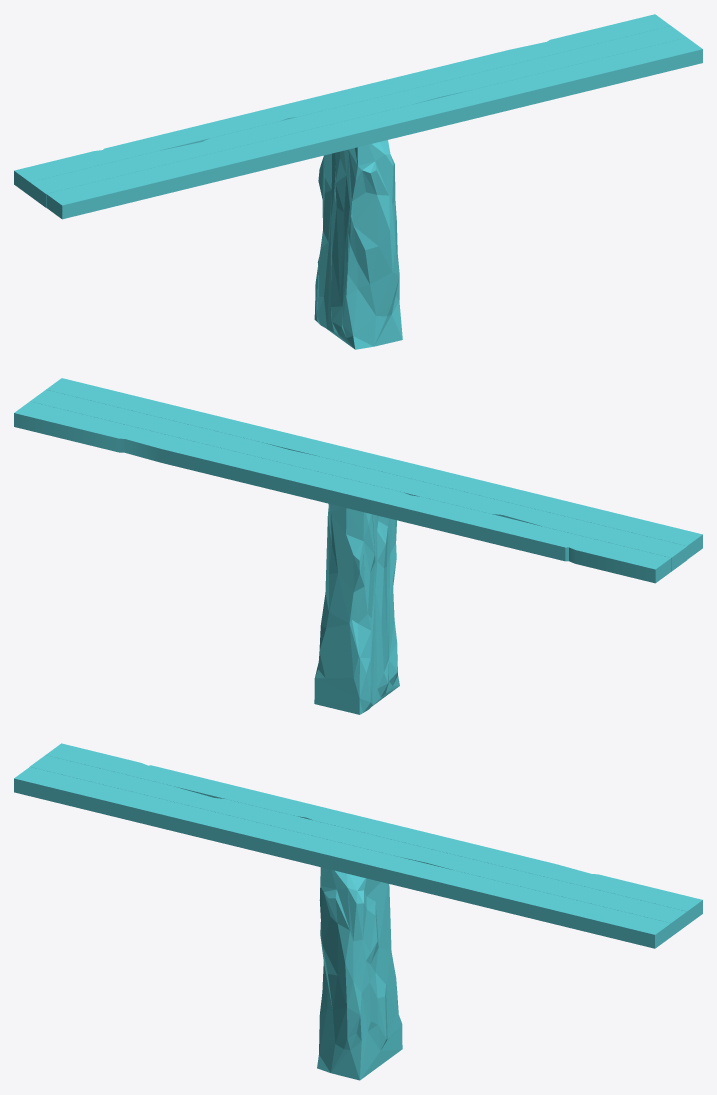
Rendered from New_platform1.fbx.
The picture shows the model from 3 angles, top to bottom: view 1: azimuth 30°, elevation 25°; view 2: azimuth 150°, elevation 25°; view 3: azimuth 330°, elevation 25°; orthographic projection.
Parts seen in each view (by area): view 1: New_platform1; view 2: New_platform1; view 3: New_platform1.
Boxes of the visible parts, box(x1,y1,x2,y2) form: New_platform1: box(14, 14, 702, 349); New_platform1: box(14, 378, 702, 714); New_platform1: box(14, 743, 702, 1080).
Size of the model in its own units: 4192 by 1378 by 541.
